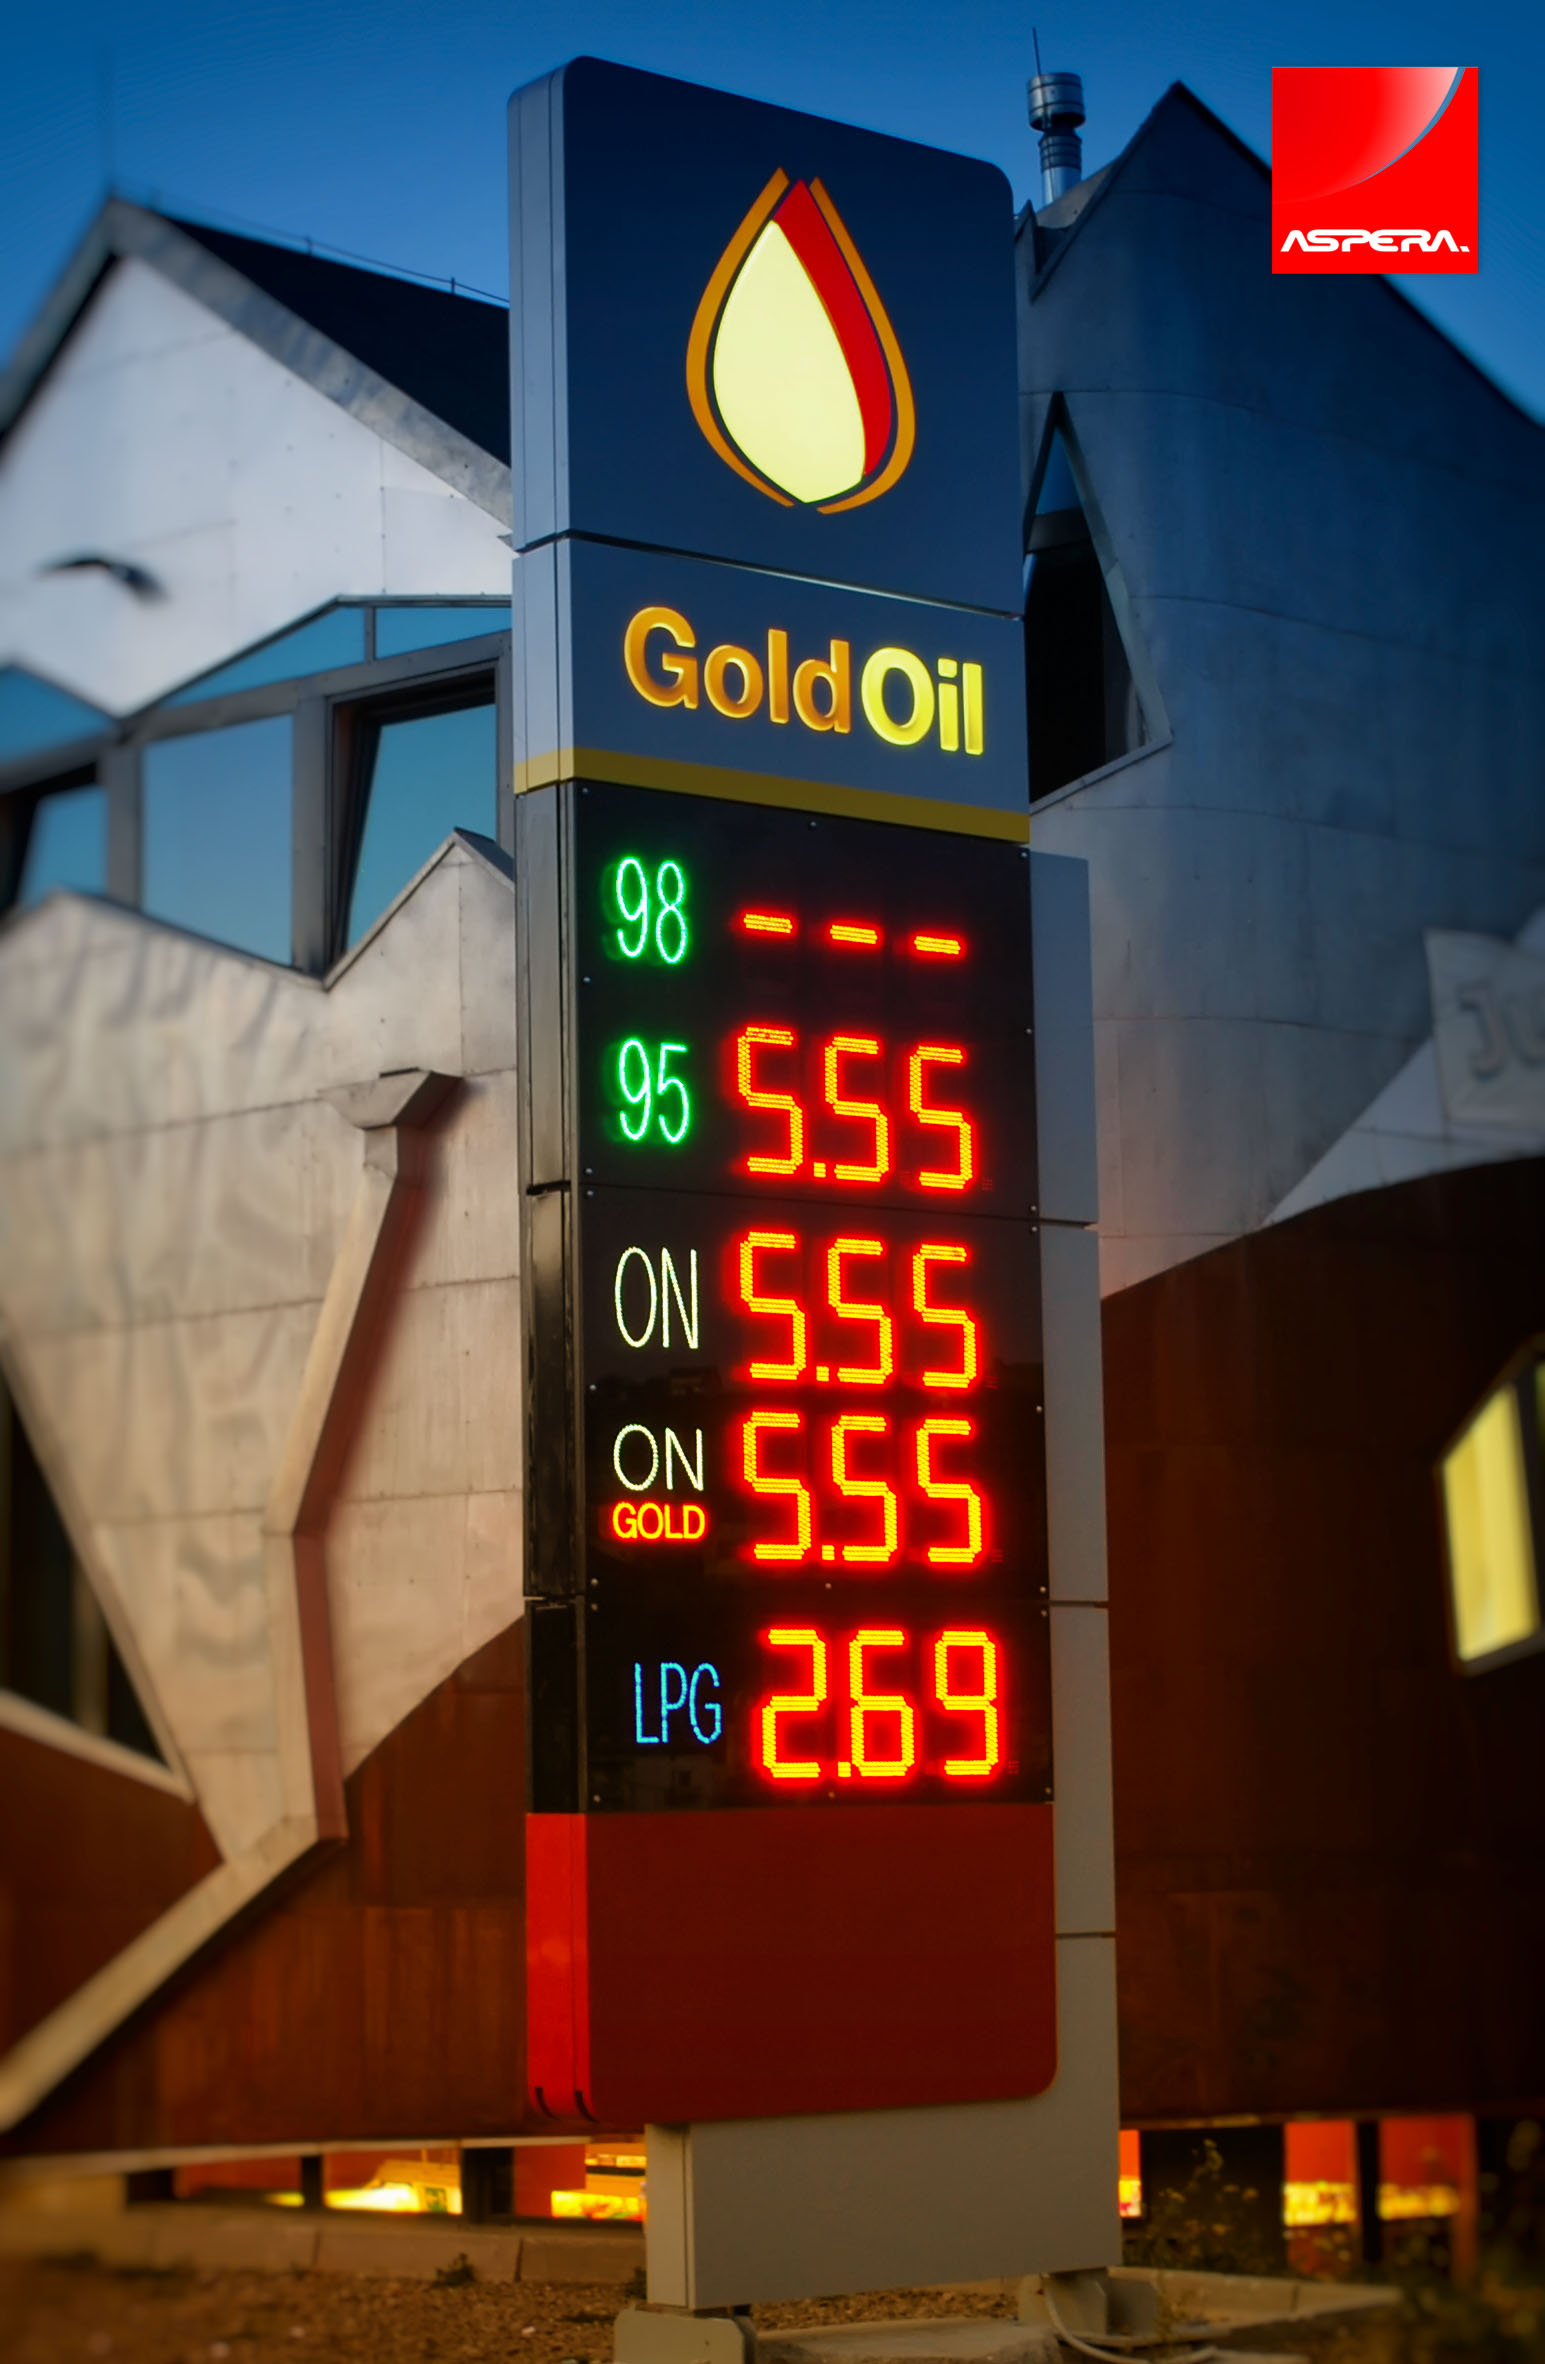LPG: (614, 1631, 740, 1766)
ON: (583, 1404, 728, 1548), (600, 1226, 707, 1373)
PB95: (593, 1014, 702, 1162)
PB98: (585, 845, 702, 990)
